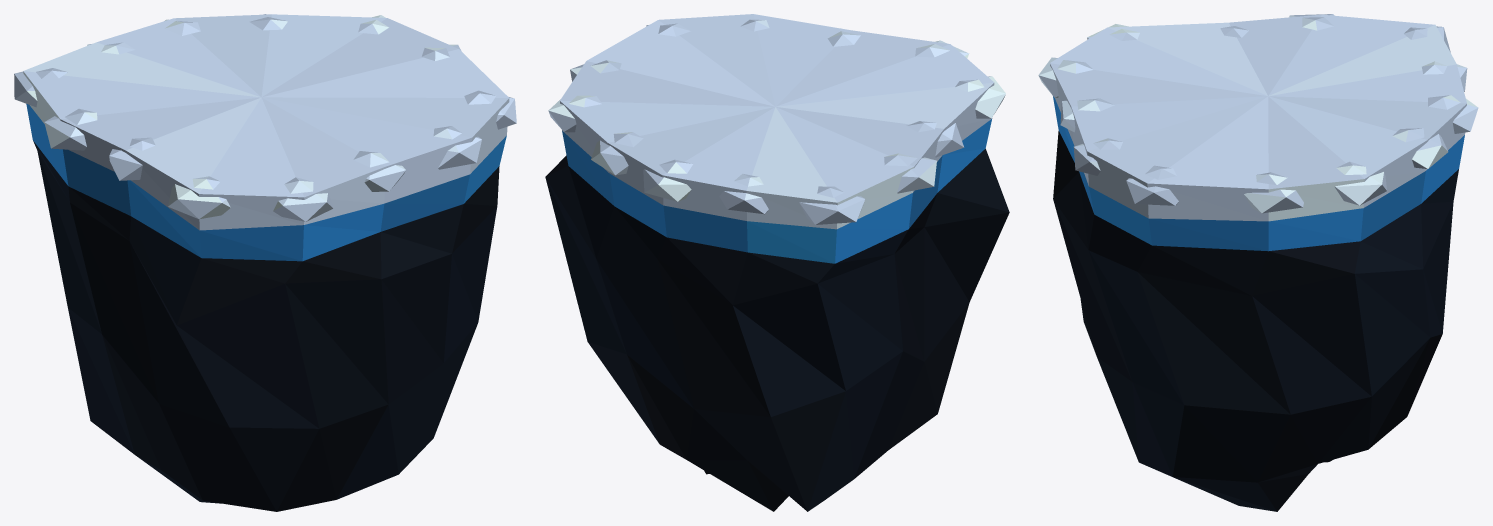
The model's file is ConceptIslet0.fbx.
3 views of the same model, side by side, from view 1: azimuth 30°, elevation 25°; view 2: azimuth 150°, elevation 25°; view 3: azimuth 270°, elevation 25° (orthographic). The views are drawn at different scales.
Parts seen in each view (by area): view 1: ConceptIslet0; view 2: ConceptIslet0; view 3: ConceptIslet0.
Boxes of the visible parts, <box> form: ConceptIslet0: <box>14,14,516,511</box>; ConceptIslet0: <box>545,14,1009,511</box>; ConceptIslet0: <box>1038,14,1478,511</box>.
Size of the model in its own units: 2.06 by 2.02 by 2.07.
